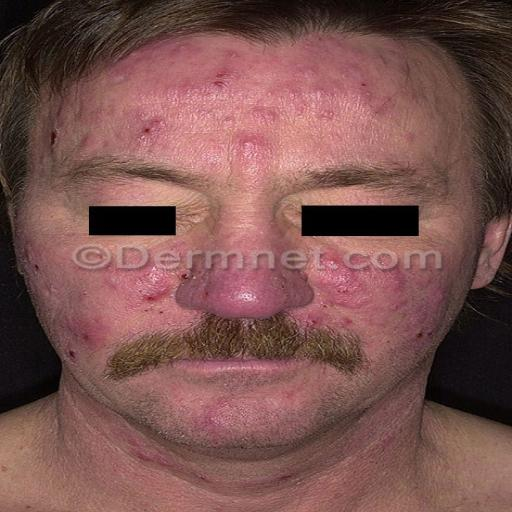Skin_Lesion: (305, 249, 413, 315), (312, 53, 390, 114), (243, 96, 304, 142), (122, 266, 186, 308), (53, 306, 99, 356), (194, 392, 231, 432), (128, 109, 162, 150), (188, 462, 218, 492), (23, 237, 45, 276), (226, 128, 258, 153), (204, 70, 237, 94), (268, 470, 305, 488), (45, 122, 61, 158), (75, 126, 92, 151)
